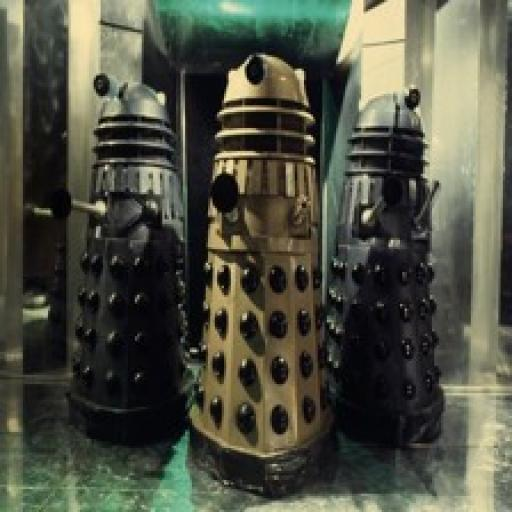dalek: (190, 51, 336, 493), (53, 72, 196, 438), (326, 86, 448, 442)
